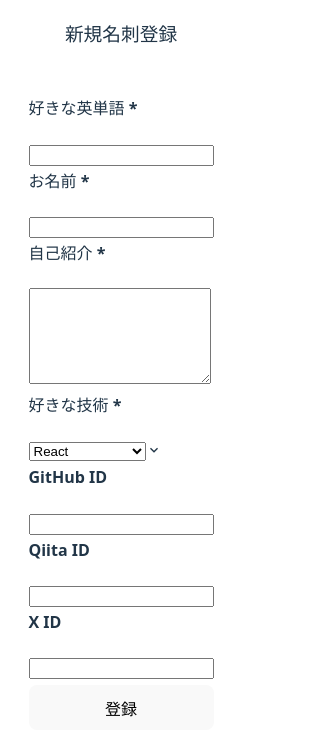
Scenario: 登録ページのテスト › IDがない場合にエラーメッセージが出る
Type "テスト花子" into the field with test id "nameForm" at (121, 227), box [28,217,214,238]
Type "よろしく" into the text box with test id "descriptionForm" at (120, 336), box [28,288,210,384]
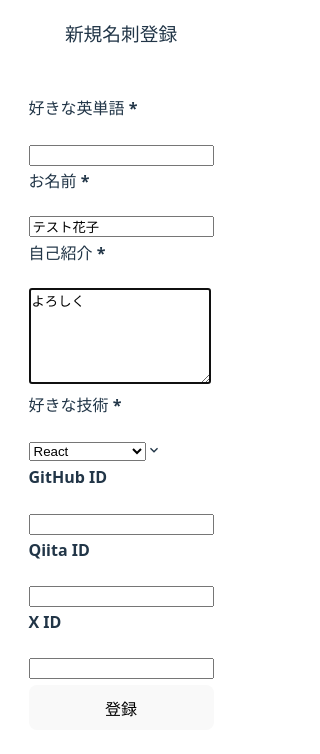
Select "React" in the dropdown with test id "skillForm" at (87, 452), box [28,442,146,461]
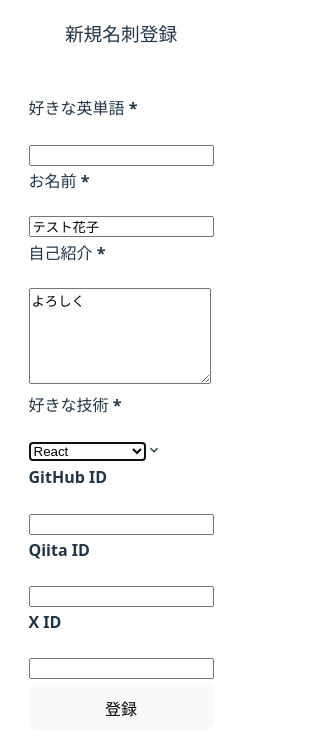
Type "hoge" into the field with test id "GithubForm" at (121, 524), box [28,514,214,535]
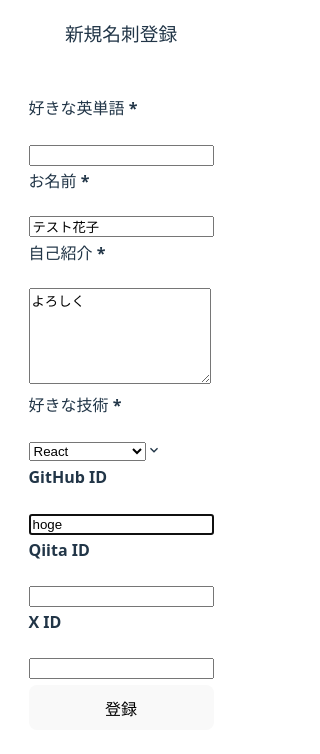
Type "hoge" into the field with test id "qiitaForm" at (121, 596), box [28,586,214,607]
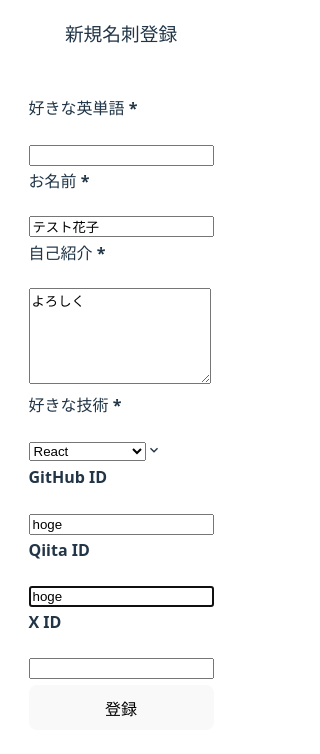
Type "hoge" into the field with test id "twitterForm" at (121, 669), box [28,658,214,679]
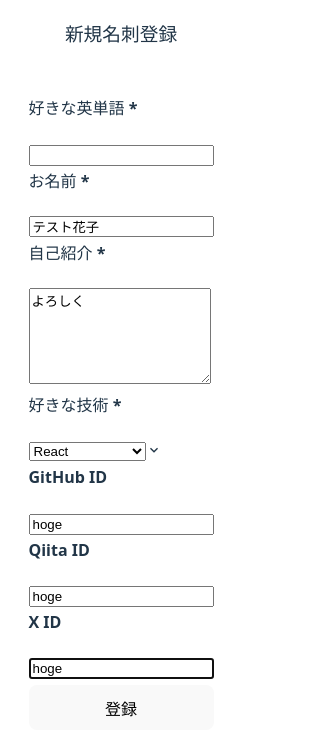
Click the button with test id "submitButton" at (121, 708), box [28,685,214,730]
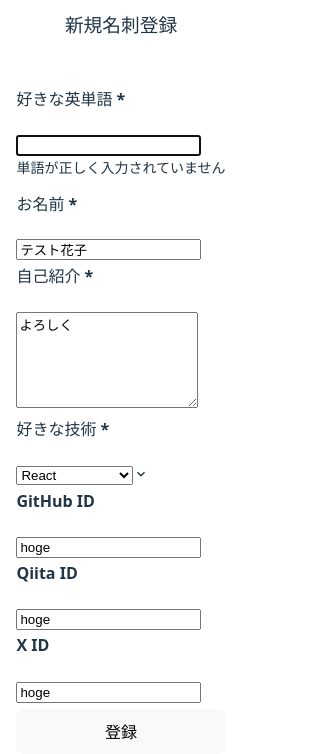
Result: the text "単語が正しく入力されていません" is shown at [16,157,226,178]
